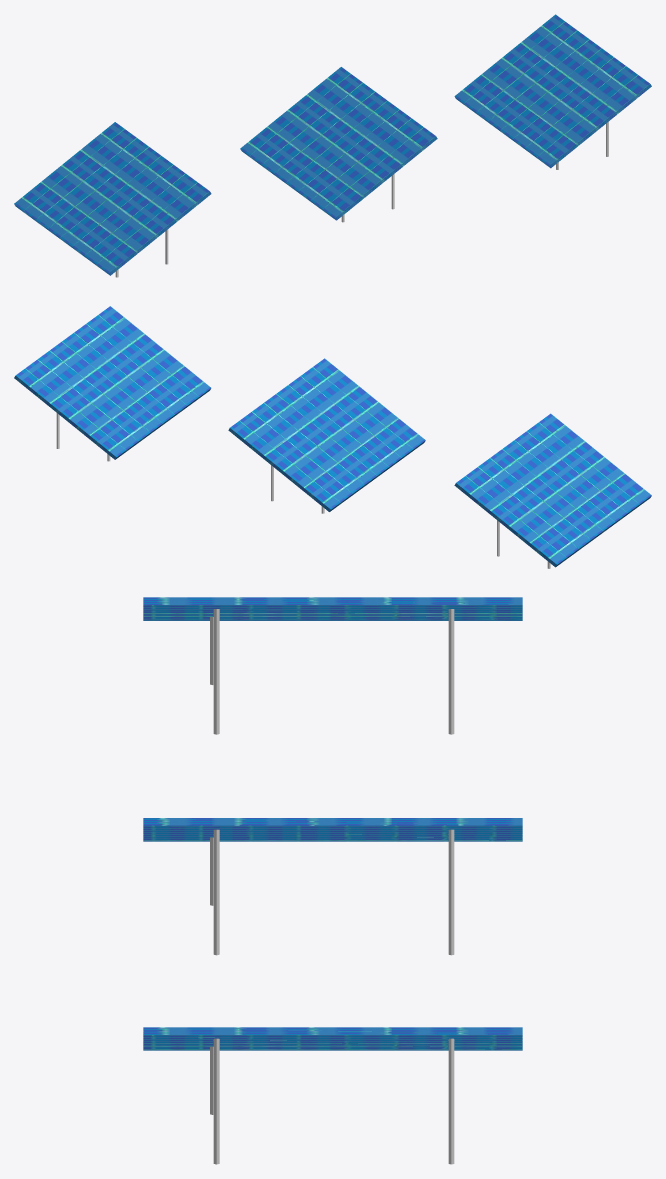
File: SolarPanels.gltf
The picture shows the model from 3 angles, top to bottom: view 1: azimuth 30°, elevation 25°; view 2: azimuth 150°, elevation 25°; view 3: azimuth 270°, elevation 25°; orthographic projection. The views are drawn at different scales.
Parts seen in each view (by area): view 1: Cube.039, Cube.040, Cube.038; view 2: Cube.040, Cube.038, Cube.039; view 3: Cube.038, Cube.039, Cube.040, Cylinder.002, Cylinder.003, Cylinder.006, Cylinder.007, Cylinder.011, Cylinder.010.
Part boxes in pixels (x1=…): Cube.039: x1=240, y1=67, x2=437, y2=220; Cube.040: x1=14, y1=122, x2=211, y2=275; Cube.038: x1=454, y1=14, x2=651, y2=168; Cube.040: x1=454, y1=413, x2=651, y2=567; Cube.038: x1=14, y1=306, x2=211, y2=459; Cube.039: x1=228, y1=358, x2=425, y2=511; Cube.038: x1=143, y1=1027, x2=522, y2=1050; Cube.039: x1=143, y1=818, x2=522, y2=841; Cube.040: x1=143, y1=597, x2=522, y2=620; Cylinder.002: x1=448, y1=1038, x2=454, y2=1164; Cylinder.003: x1=213, y1=1038, x2=219, y2=1164; Cylinder.006: x1=213, y1=829, x2=219, y2=955; Cylinder.007: x1=448, y1=829, x2=454, y2=955; Cylinder.011: x1=448, y1=609, x2=454, y2=734; Cylinder.010: x1=213, y1=609, x2=219, y2=734.
Bounding box in the file's own units: 0.6212 × 0.0874 × 0.1879.
3 materials, 3 textured.
